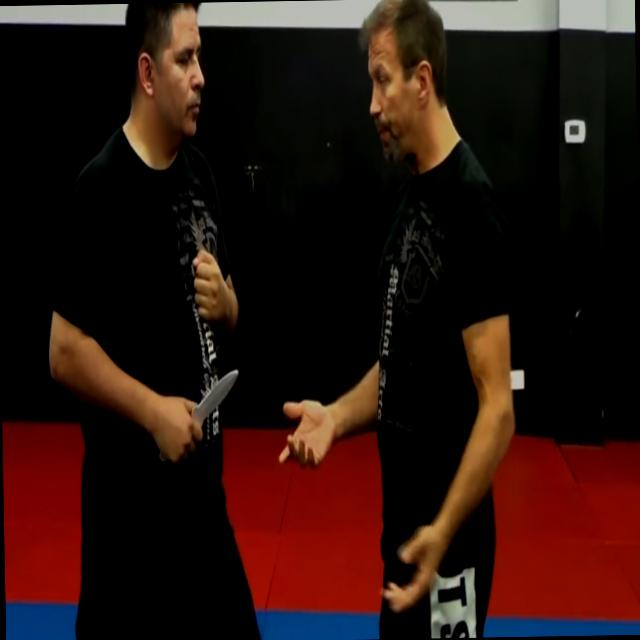knife: (154, 360, 242, 470)
